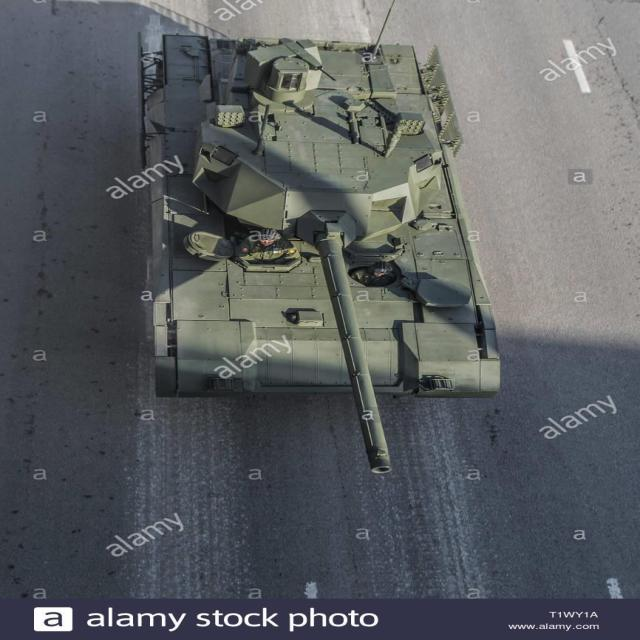Tanks: (130, 34, 525, 437)
